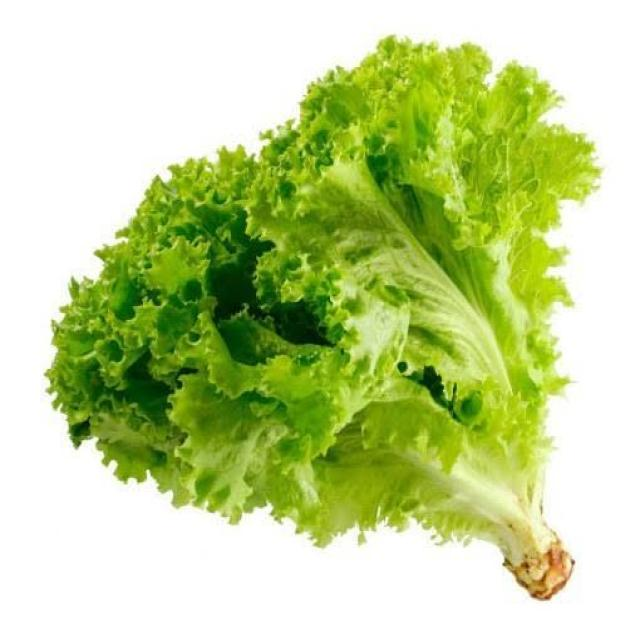lettuce: (49, 40, 598, 598)
